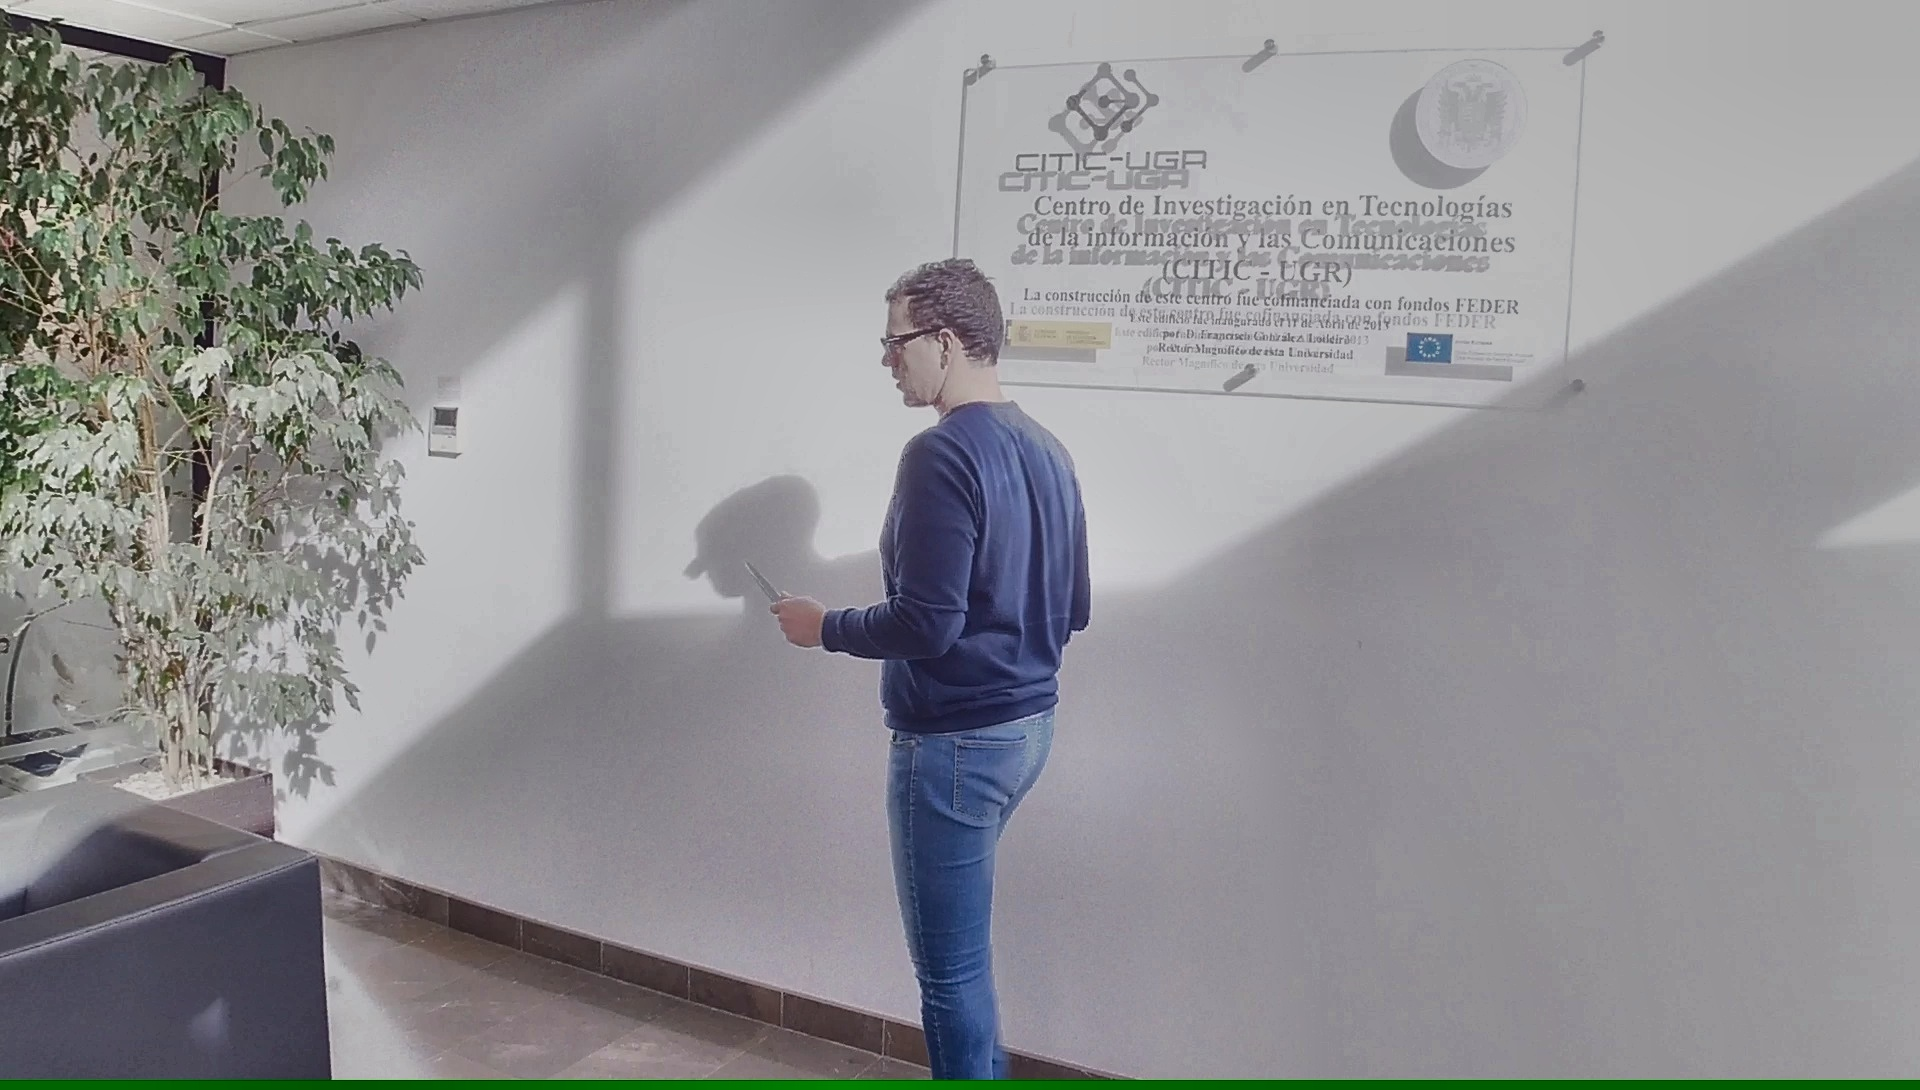knife: (738, 551, 806, 642)
